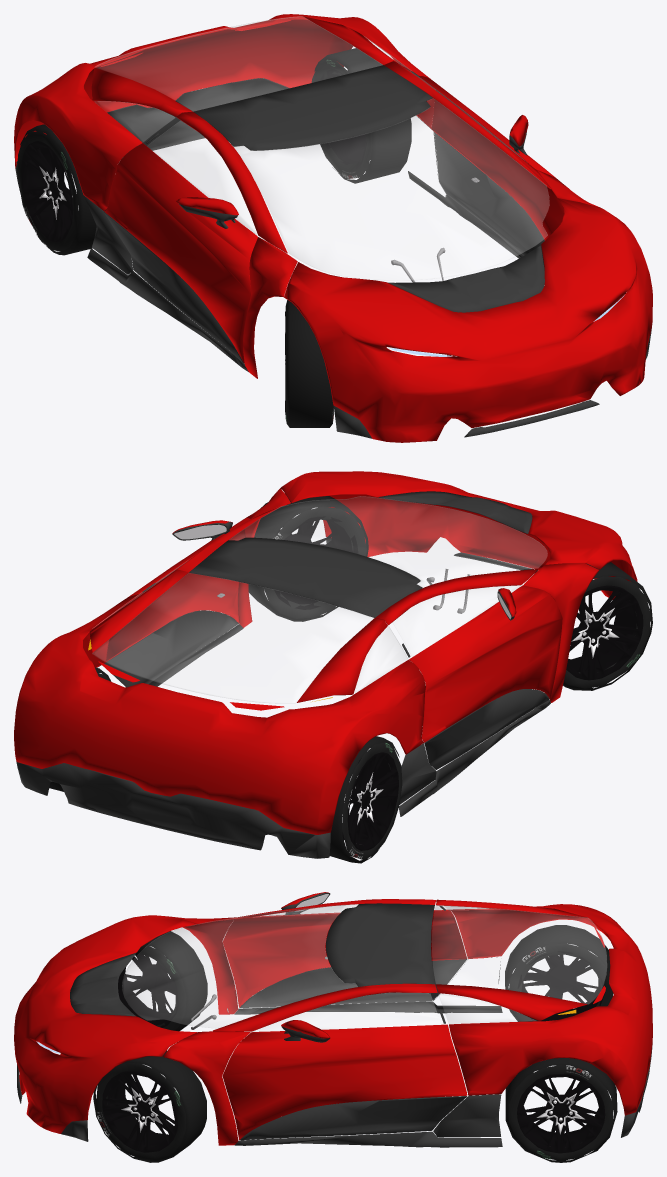
The model's file is CarLite (1).glb.
3 views of the same model, one above another, from view 1: azimuth 30°, elevation 25°; view 2: azimuth 150°, elevation 25°; view 3: azimuth 270°, elevation 25° (orthographic). The views are drawn at different scales.
Visible parts, largest first — view 1: BodyHood, BodyWindshield, BodyRearPanelsColor1, BodyRearwindow, BodyDoorRColor1, BodyRoofPanel, BodyPanelsColor2, BodyPillars, BodyDoorLColor1, BodyDoorLColor2, BodyHoodTopgrill, WheelFrontR (+8 smaller); view 2: BodyRearPanelsColor1, BodyRearwindow, BodyHood, BodyWindshield, BodyPanelsColor2, BodyDoorRColor1, BodyRoofPanel, BodyPillars, WheelFrontRRim, BodyDoorLColor1, BodyDoorLColor2, WheelFrontL (+8 smaller); view 3: BodyRearPanelsColor1, BodyWindshield, BodyDoorLColor1, BodyHood, BodyRearwindow, BodyPillars, BodyDoorRColor1, BodyRoofPanel, BodyPanelsColor2, BodyDoorLColor2, WheelFrontL, WheelRearLRim (+12 smaller).
Part boxes in pixels (x1=…): BodyHood: x1=284, y1=198, x2=652, y2=442; BodyWindshield: x1=234, y1=98, x2=549, y2=280; BodyRearPanelsColor1: x1=14, y1=14, x2=435, y2=211; BodyRearwindow: x1=94, y1=16, x2=382, y2=111; BodyDoorRColor1: x1=104, y1=143, x2=257, y2=363; BodyRoofPanel: x1=194, y1=65, x2=432, y2=150; BodyPanelsColor2: x1=15, y1=78, x2=651, y2=438; BodyPillars: x1=176, y1=61, x2=599, y2=378; BodyDoorLColor1: x1=419, y1=76, x2=563, y2=240; BodyDoorLColor2: x1=434, y1=132, x2=544, y2=270; BodyHoodTopgrill: x1=388, y1=245, x2=544, y2=312; WheelFrontR: x1=285, y1=300, x2=333, y2=427; BodyRearPanelsColor1: x1=14, y1=569, x2=425, y2=834; BodyRearwindow: x1=92, y1=573, x2=373, y2=703; BodyHood: x1=278, y1=471, x2=637, y2=599; BodyWindshield: x1=229, y1=496, x2=547, y2=587; BodyPanelsColor2: x1=15, y1=538, x2=550, y2=858; BodyDoorRColor1: x1=409, y1=585, x2=562, y2=742; BodyRoofPanel: x1=189, y1=537, x2=422, y2=617; BodyPillars: x1=175, y1=489, x2=599, y2=702; WheelFrontRRim: x1=566, y1=585, x2=643, y2=680; BodyDoorLColor1: x1=104, y1=517, x2=250, y2=663; BodyDoorLColor2: x1=104, y1=610, x2=238, y2=687; WheelFrontL: x1=248, y1=494, x2=368, y2=621; BodyRearPanelsColor1: x1=436, y1=899, x2=652, y2=1115; BodyWindshield: x1=122, y1=904, x2=357, y2=1028; BodyDoorLColor1: x1=222, y1=1024, x2=467, y2=1139; BodyHood: x1=14, y1=915, x2=196, y2=1133; BodyRearwindow: x1=432, y1=905, x2=606, y2=1003; BodyPillars: x1=163, y1=899, x2=437, y2=1145; BodyDoorRColor1: x1=222, y1=909, x2=467, y2=1007; BodyRoofPanel: x1=326, y1=903, x2=434, y2=986; BodyPanelsColor2: x1=17, y1=957, x2=652, y2=1147; BodyDoorLColor2: x1=240, y1=1096, x2=466, y2=1140; WheelFrontL: x1=93, y1=1050, x2=206, y2=1162; WheelRearLRim: x1=517, y1=1073, x2=605, y2=1153.
Size of the model in its own units: 2.54 by 1.15 by 4.36.
12 materials, 2 textured.
